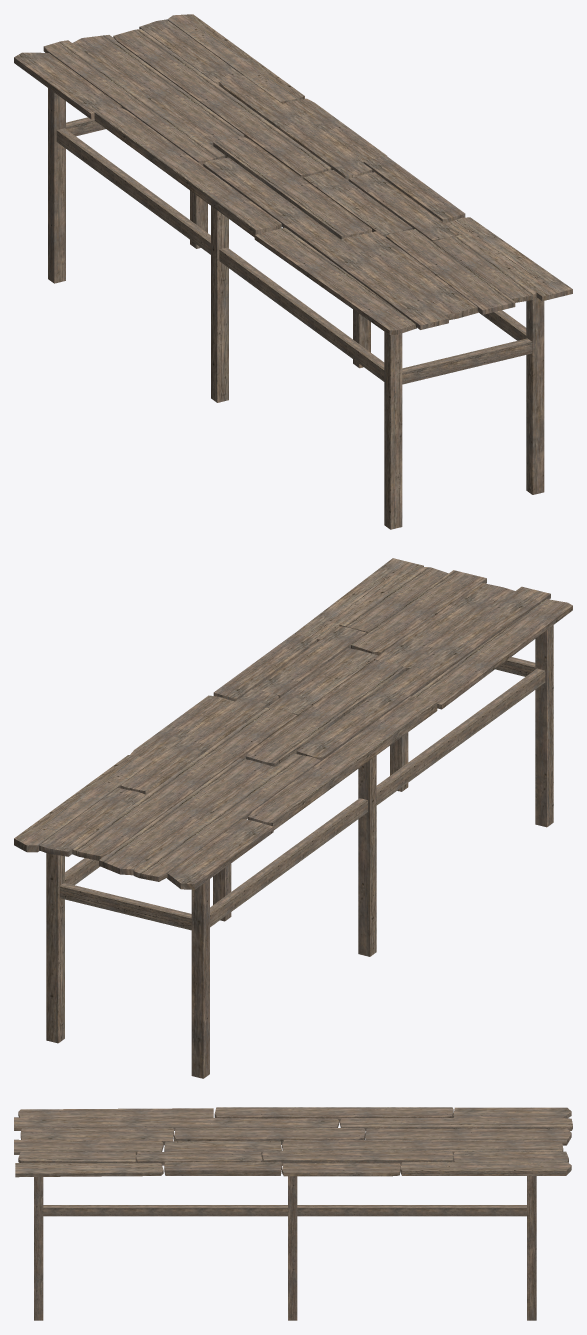
The model's file is Prop_Mq04.glb.
3 renders of one model, top to bottom at view 1: azimuth 30°, elevation 25°; view 2: azimuth 150°, elevation 25°; view 3: azimuth 270°, elevation 25°, orthographic. The views are drawn at different scales.
Parts seen in each view (by area): view 1: xiutz_mq_04; view 2: xiutz_mq_04; view 3: xiutz_mq_04.
Part boxes in pixels (box(x1,y1,x2,y2)): xiutz_mq_04: box(14, 14, 572, 529); xiutz_mq_04: box(14, 558, 572, 1078); xiutz_mq_04: box(14, 1107, 572, 1320).
Size of the model in its own units: 3.96 by 4.37 by 14.27.
1 material, 1 textured.
